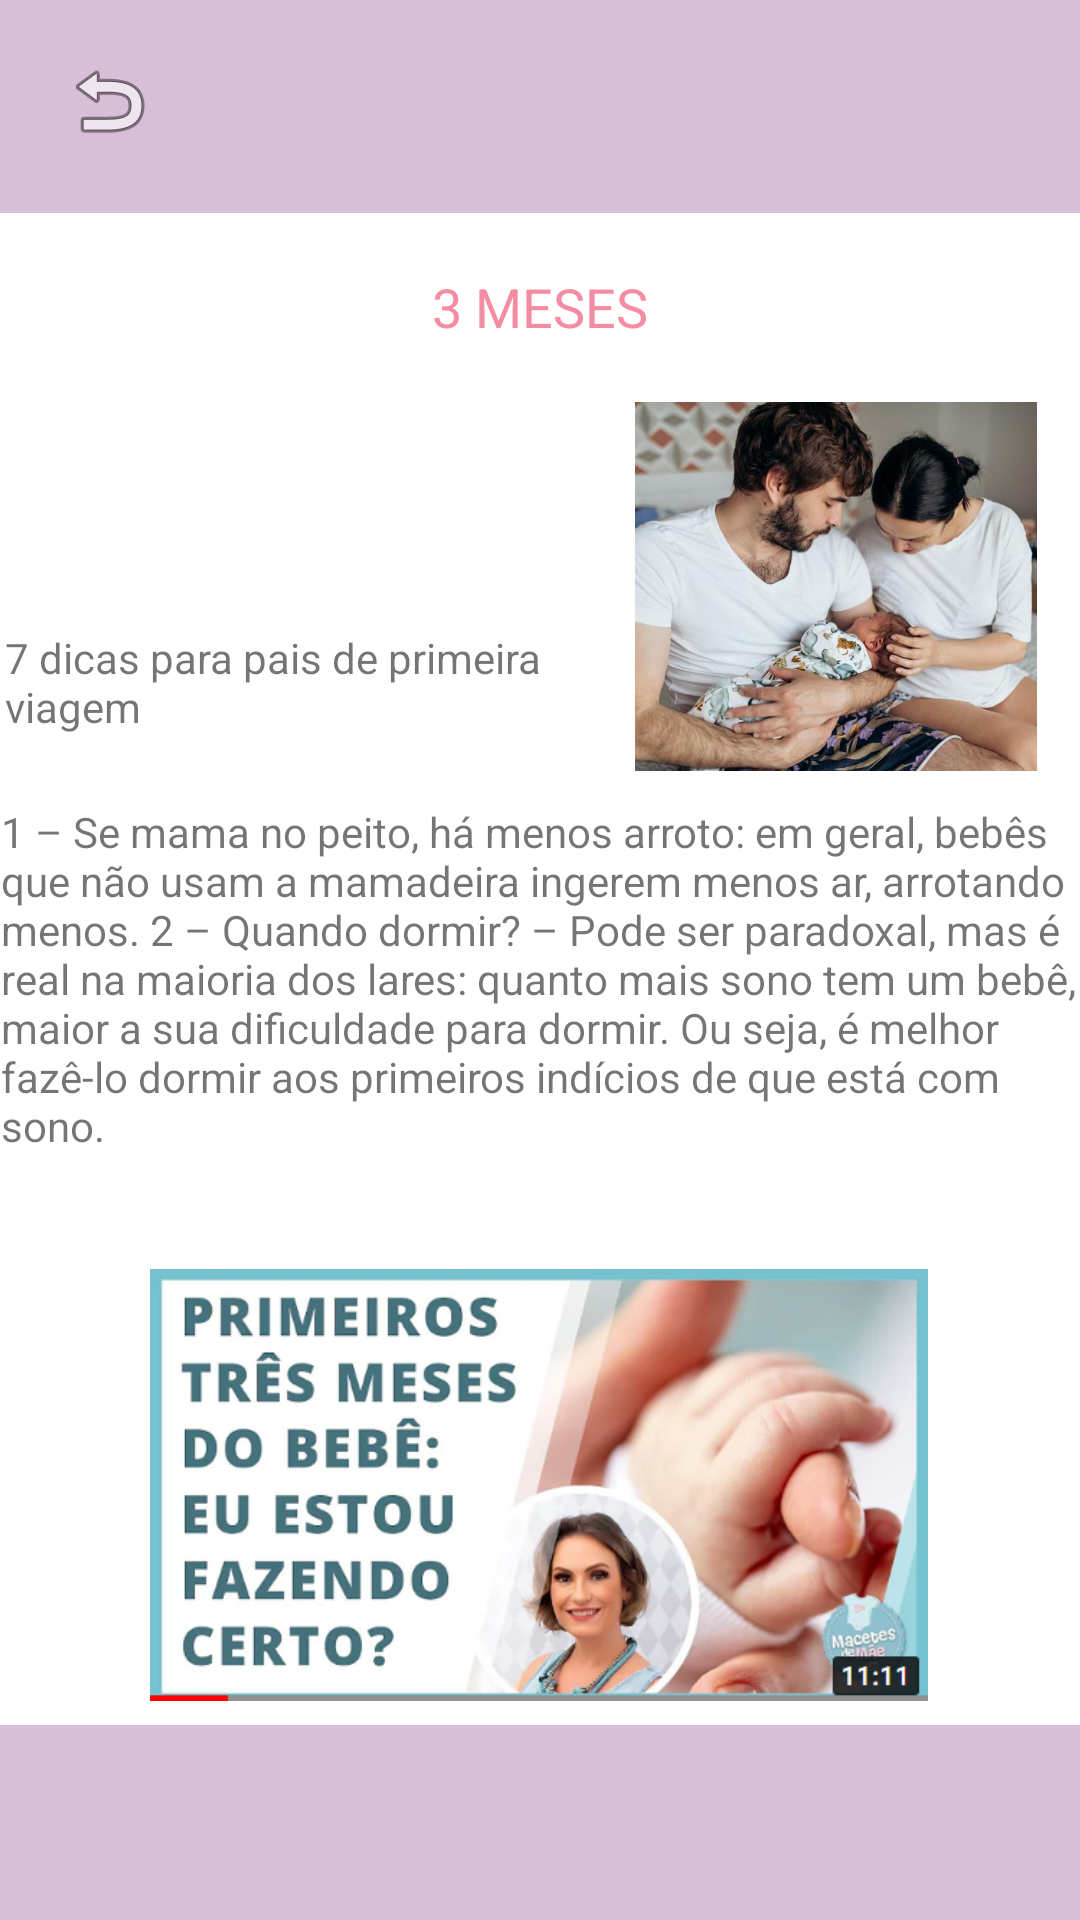

Where to tap for icons on this 1080*1920 app screen, as (x=x, y=y):
revert: (x=110, y=101)
